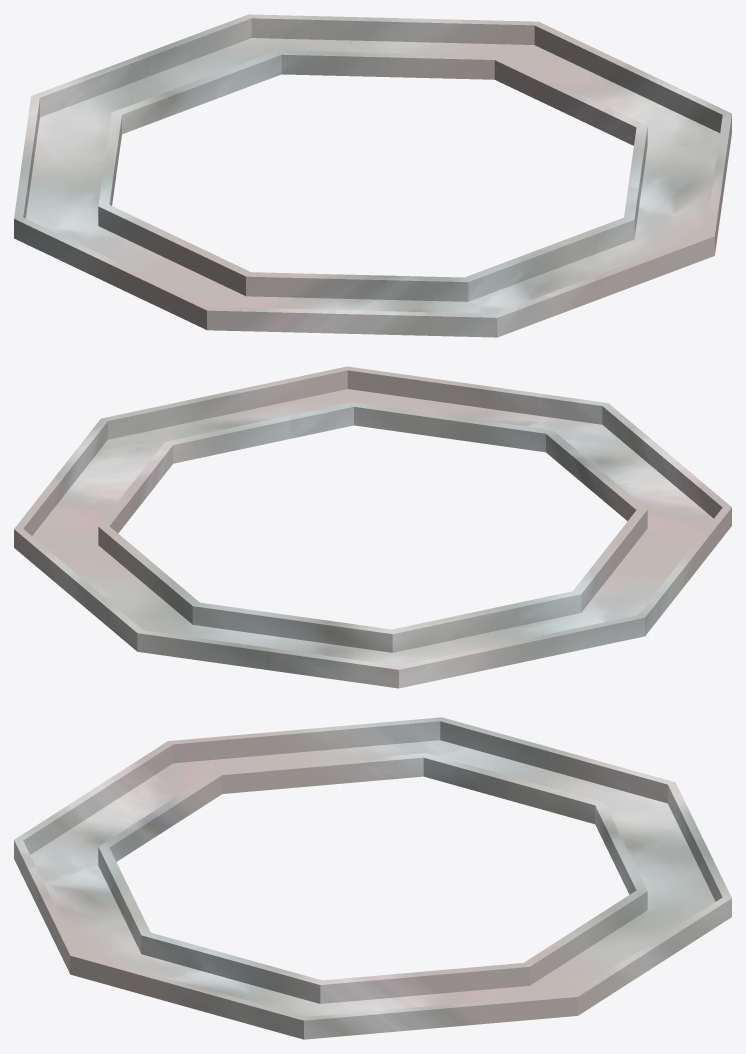
File: TheOctagon_Floor_4.gltf
The picture shows the model from 3 angles, top to bottom: view 1: azimuth 30°, elevation 25°; view 2: azimuth 150°, elevation 25°; view 3: azimuth 270°, elevation 25°; orthographic projection. The views are drawn at different scales.
Parts seen in each view (by area): view 1: TheOctagon_Floor_4; view 2: TheOctagon_Floor_4; view 3: TheOctagon_Floor_4.
Boxes of the visible parts, left/top/right/bottom form: TheOctagon_Floor_4: left=14, top=14, right=731, bottom=337; TheOctagon_Floor_4: left=14, top=366, right=731, bottom=688; TheOctagon_Floor_4: left=14, top=717, right=731, bottom=1039.
Bounding box in the file's own units: 81.92 × 2.39 × 81.92.
Materials: 1 (1 with a texture image).
